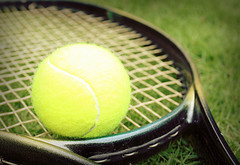tennis ball: (29, 41, 133, 140)
